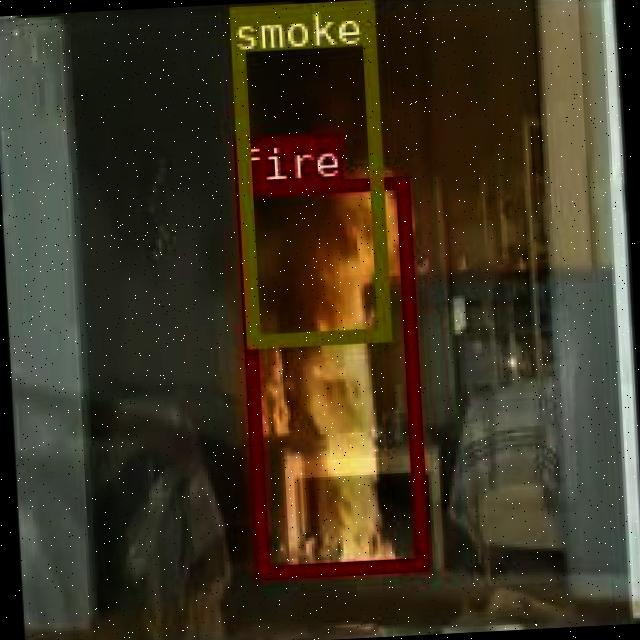fire: (234, 172, 426, 578)
smoke: (227, 0, 386, 345)
